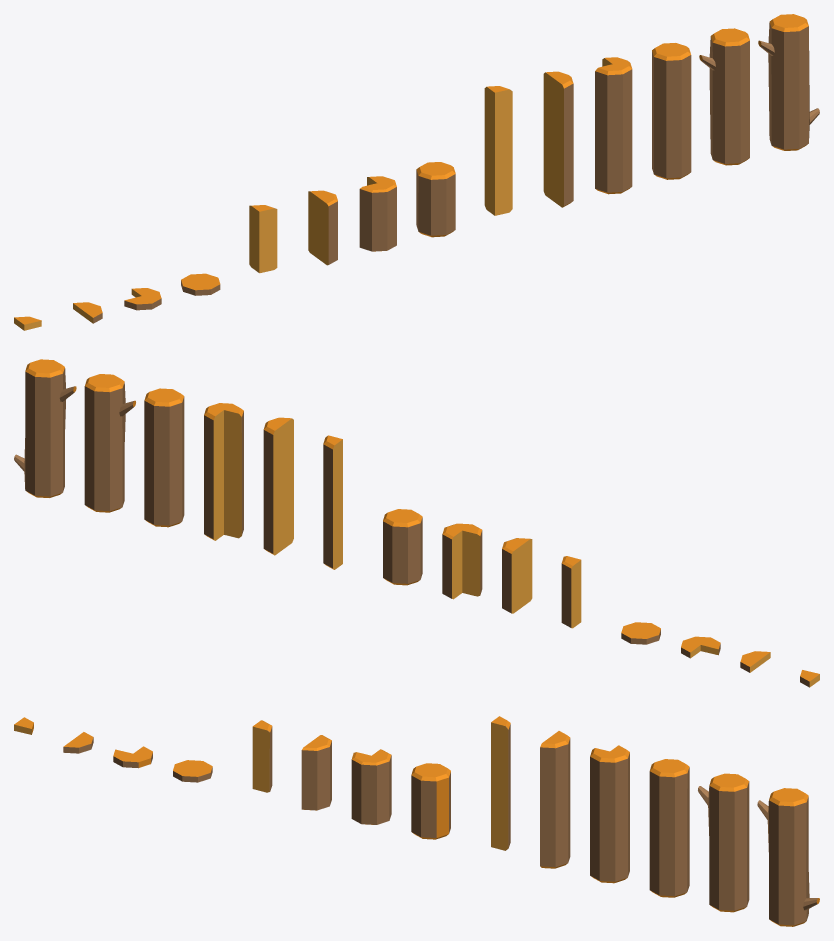
Rendered from Wood_Log.fbx.
3 renders of one model, top to bottom at view 1: azimuth 30°, elevation 25°; view 2: azimuth 150°, elevation 25°; view 3: azimuth 330°, elevation 25°, orthographic.
Visible parts, largest first — view 1: FullLog, FullLog2, FullLog3, FullLog4by1, FullLog4by2, FullLog4by3, HalfLog, HalfLog4by1, HalfLog4by2, HalfLog4by3, SmallLog, SmallLog4by1; view 2: FullLog, FullLog2, FullLog3, FullLog4by1, FullLog4by2, HalfLog4by1, HalfLog, FullLog4by3, HalfLog4by2, HalfLog4by3, SmallLog, SmallLog4by1; view 3: FullLog, FullLog2, FullLog3, FullLog4by1, FullLog4by2, HalfLog4by1, HalfLog, FullLog4by3, HalfLog4by2, HalfLog4by3, SmallLog, SmallLog4by1 (+1 smaller).
Boxes of the visible parts, x1,y1,x2,y2 form: FullLog: [758, 14, 819, 150]; FullLog2: [699, 28, 749, 165]; FullLog3: [652, 43, 691, 179]; FullLog4by1: [595, 57, 632, 194]; FullLog4by2: [543, 71, 573, 207]; FullLog4by3: [484, 86, 512, 215]; HalfLog: [416, 162, 455, 237]; HalfLog4by1: [359, 176, 396, 251]; HalfLog4by2: [308, 190, 337, 265]; HalfLog4by3: [249, 205, 277, 273]; SmallLog: [181, 273, 220, 295]; SmallLog4by1: [124, 288, 161, 310]; FullLog: [14, 359, 76, 497]; FullLog2: [84, 374, 135, 512]; FullLog3: [144, 388, 184, 527]; FullLog4by1: [204, 403, 243, 540]; FullLog4by2: [263, 417, 293, 555]; HalfLog4by1: [442, 523, 482, 599]; HalfLog: [383, 509, 422, 585]; FullLog4by3: [323, 435, 342, 569]; HalfLog4by2: [502, 538, 532, 613]; HalfLog4by3: [561, 556, 581, 628]; SmallLog: [621, 622, 660, 644]; SmallLog4by1: [681, 636, 720, 658]; FullLog: [757, 788, 819, 926]; FullLog2: [698, 773, 749, 912]; FullLog3: [649, 759, 689, 897]; FullLog4by1: [590, 745, 629, 883]; FullLog4by2: [540, 731, 570, 868]; HalfLog4by1: [351, 749, 391, 824]; HalfLog: [411, 763, 450, 839]; FullLog4by3: [491, 716, 510, 850]; HalfLog4by2: [301, 735, 331, 810]; HalfLog4by3: [252, 720, 272, 792]; SmallLog: [173, 760, 212, 782]; SmallLog4by1: [113, 746, 152, 768].
Size of the model in its own units: 13.49 by 2 by 0.6.
Materials: 1 (1 with a texture image).
